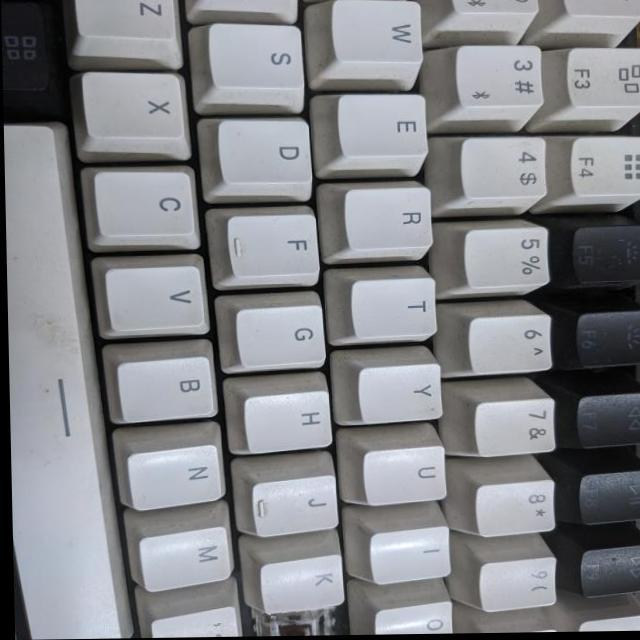key-switch: (267, 605, 334, 637)
